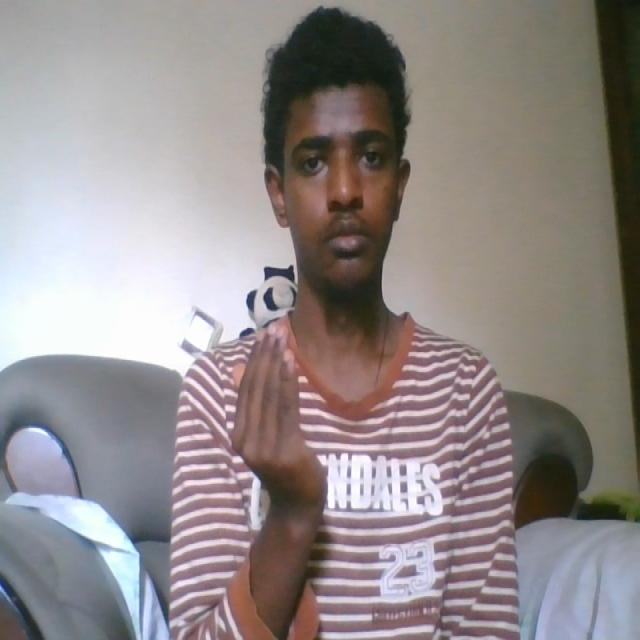na: (231, 326, 320, 512)
